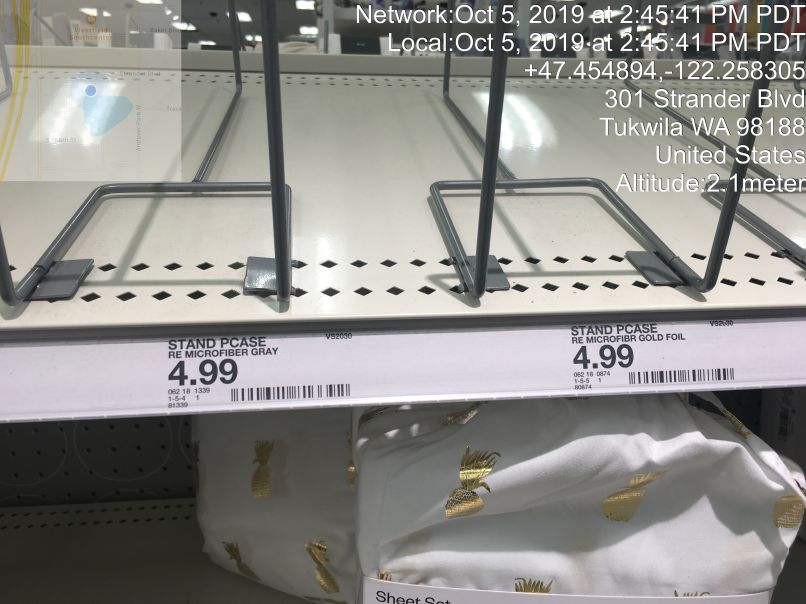Label: (160, 327, 356, 410), (559, 319, 747, 396)
Location: (592, 82, 806, 168)
Stand Pcase: (416, 11, 766, 303), (16, 7, 306, 310)
Time: (347, 2, 806, 57)
